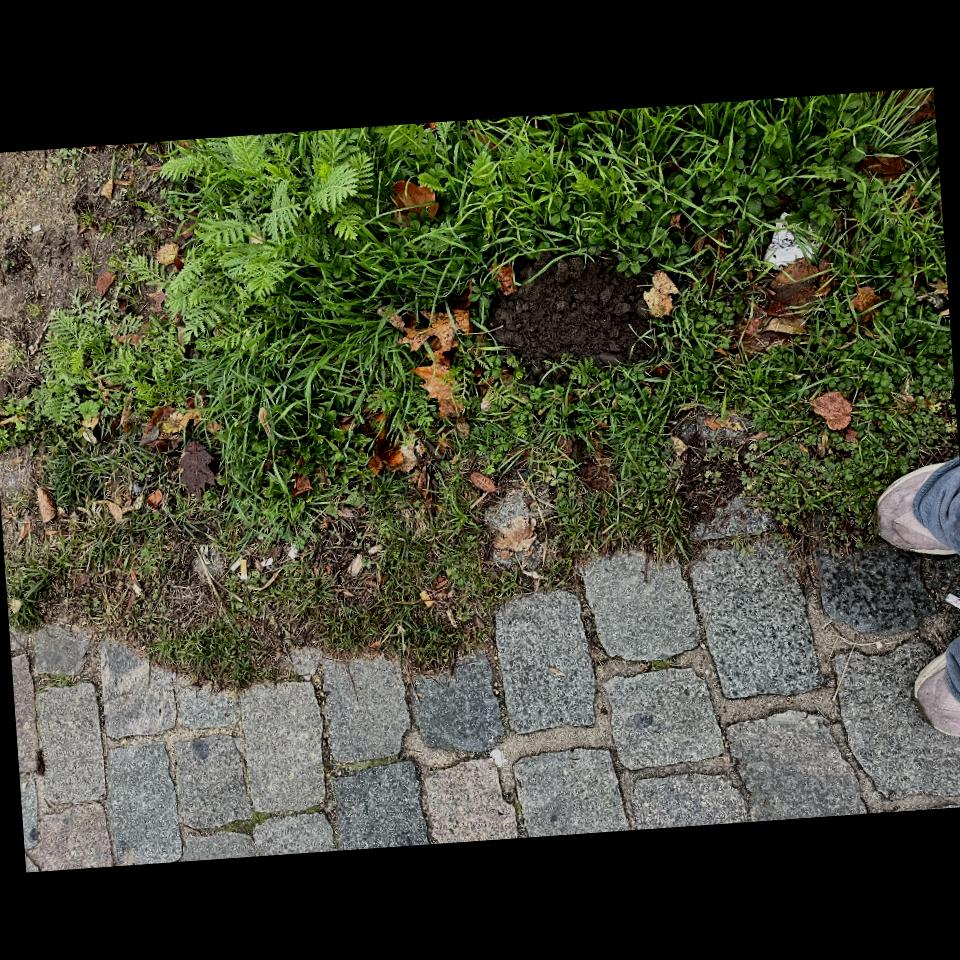weed: (110, 526, 519, 685), (745, 434, 925, 541), (553, 418, 683, 549), (150, 616, 269, 684), (571, 478, 648, 554)
